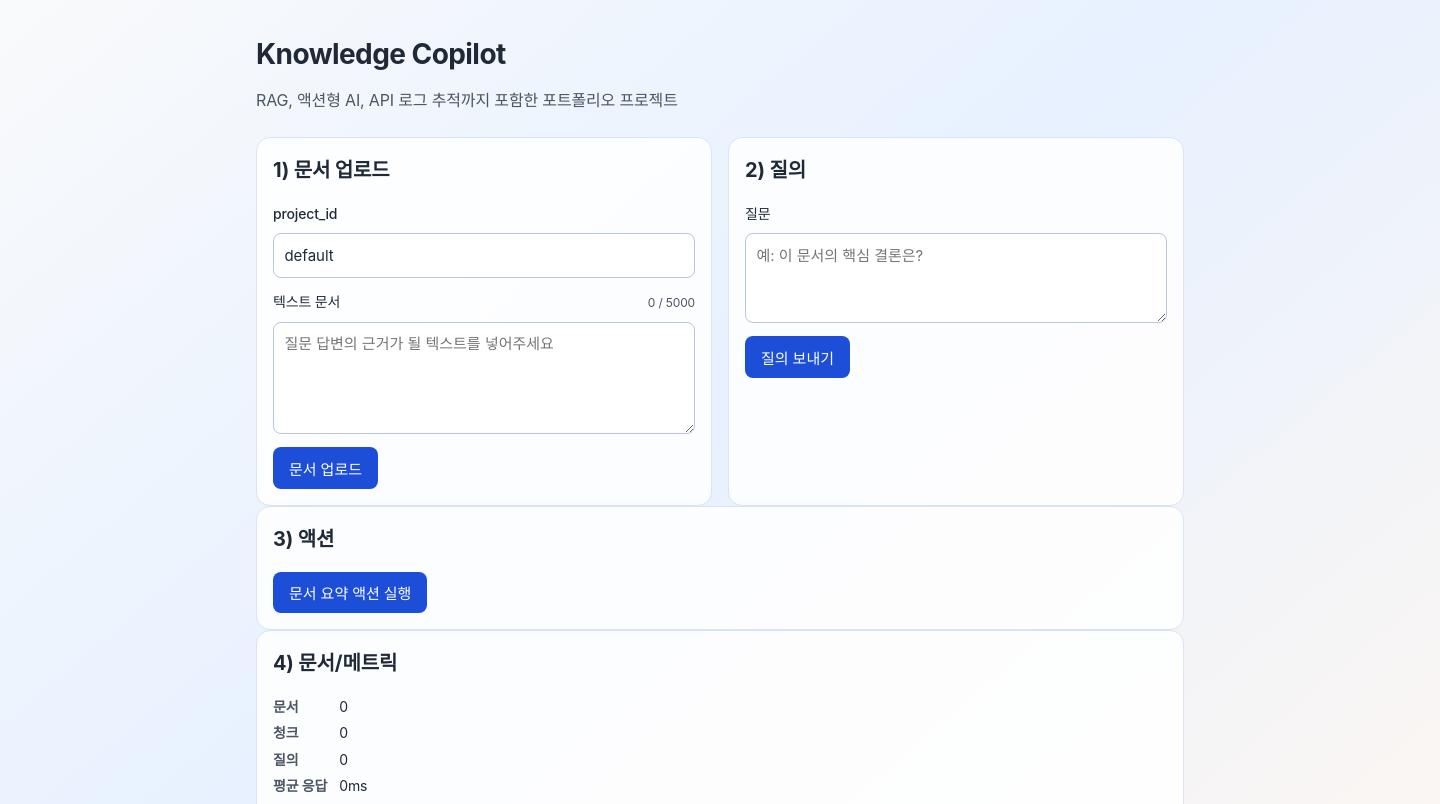
Test: HomePage › validates empty question
The image size is (1440, 804).
Click the button "질의 보내기" at (798, 357), box [745,336,850,378]
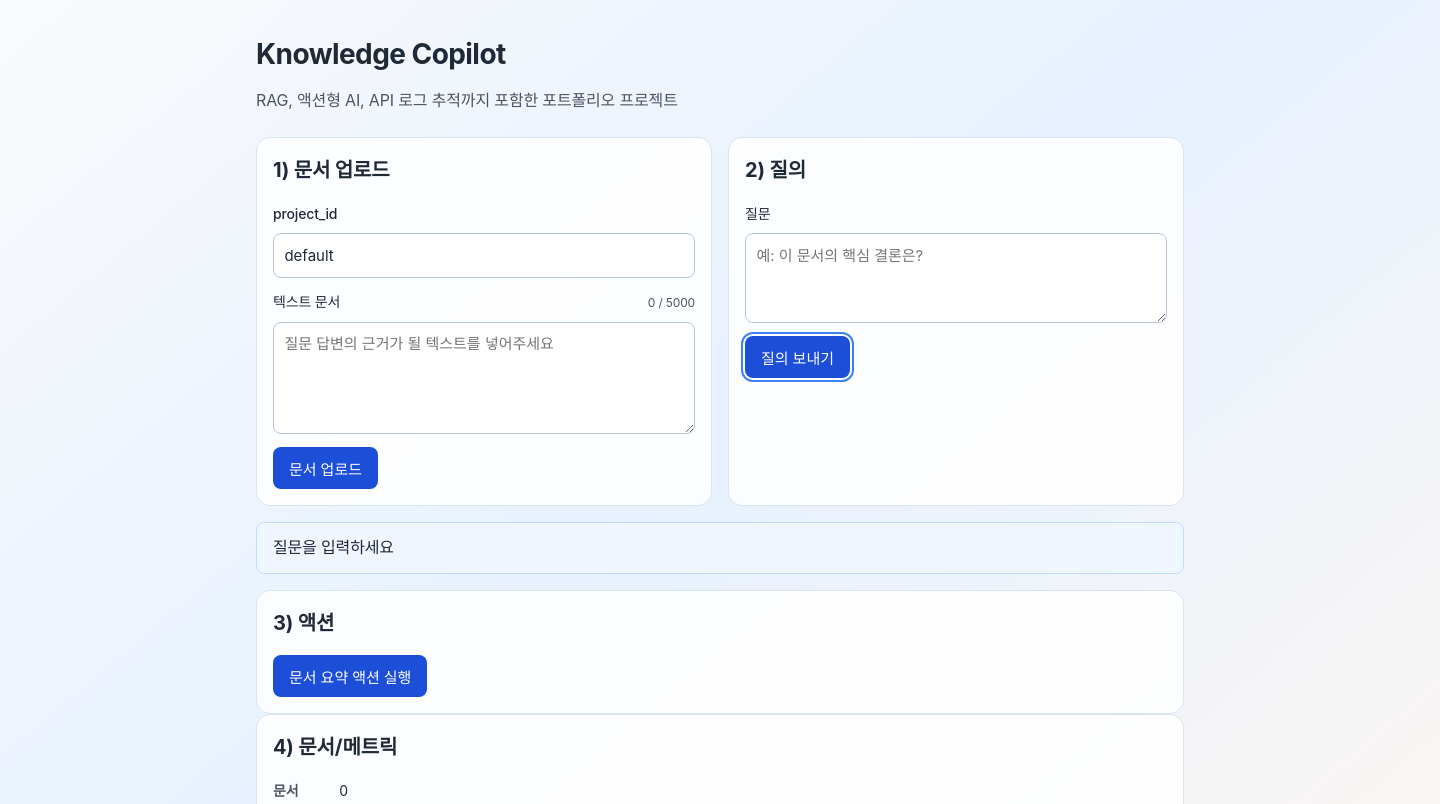
Result: the text "질문을 입력하세요" is shown at [256,522,1184,574]
